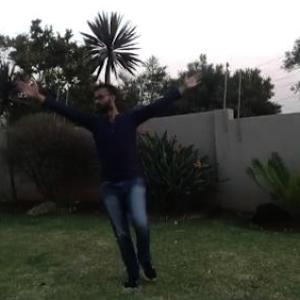takeoff: (1, 45, 240, 288)
